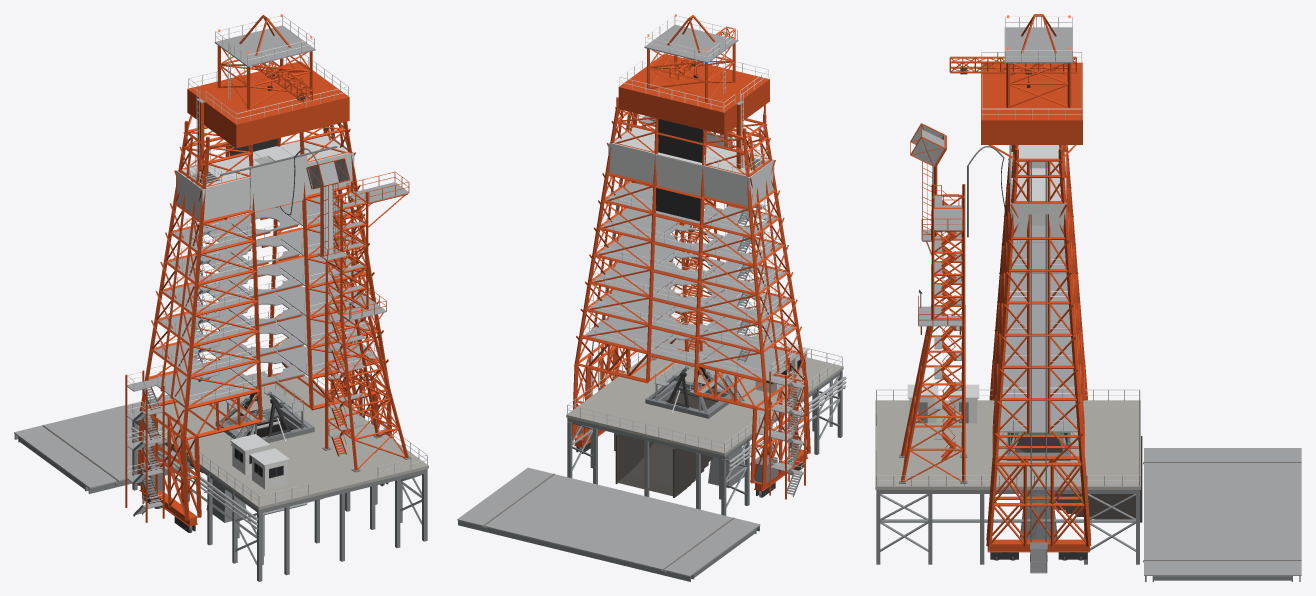
Rendered from pad.lod2.glb.
3 renders of one model, left to right at view 1: azimuth 30°, elevation 25°; view 2: azimuth 150°, elevation 25°; view 3: azimuth 270°, elevation 25°, orthographic. The views are drawn at different scales.
Visible parts, largest first — view 1: ServiceStructure_Tower_Orange, ServiceStructure_Tower_Deck, LaunchStand_Concrete, ServiceStructure_Tower_OrangeHead, EgressTower_Orange, TransferTable_Deck, LaunchStand_GreyFrame, ServiceStructure_Tower_WhiteRails, ServiceStructure_Tower_AluminiumWhiteroom, ServiceStructure_Tower_GreyStair, EgressTower_OrangeStair, EgressTower_DeckPlatforms (+15 smaller); view 2: ServiceStructure_Tower_Orange, ServiceStructure_Tower_Deck, TransferTable_Deck, LaunchStand_Concrete, ServiceStructure_Tower_OrangeHead, ServiceStructure_Tower_WhiteRails, ServiceStructure_Tower_AluminiumWhiteroom, LaunchStand_GreyFrame, ServiceStructure_Tower_BlackScreen, FlameDeflector_ScorchedWalls, FlameDeflector_Scorched, ServiceStructure_Tower_GreyStair (+10 smaller); view 3: ServiceStructure_Tower_Orange, TransferTable_Deck, LaunchStand_Concrete, ServiceStructure_Tower_Deck, ServiceStructure_Tower_OrangeHead, EgressTower_Orange, LaunchStand_GreyFrame, ServiceStructure_Tower_AluminiumWhiteroom, FlameDeflector_ScorchedWalls, ServiceStructure_Tower_WhiteRails, EgressTower_OrangeStair, EgressTower_DeckPlatforms (+13 smaller).
Part boxes in pixels (<box>): ServiceStructure_Tower_Orange: <box>125,15,392,522</box>; ServiceStructure_Tower_Deck: <box>126,25,378,508</box>; LaunchStand_Concrete: <box>137,375,428,509</box>; ServiceStructure_Tower_OrangeHead: <box>187,61,349,148</box>; EgressTower_Orange: <box>317,181,408,470</box>; TransferTable_Deck: <box>14,372,267,488</box>; LaunchStand_GreyFrame: <box>132,420,427,581</box>; ServiceStructure_Tower_WhiteRails: <box>148,15,377,402</box>; ServiceStructure_Tower_AluminiumWhiteroom: <box>176,135,354,220</box>; ServiceStructure_Tower_GreyStair: <box>133,168,215,516</box>; EgressTower_OrangeStair: <box>331,194,354,456</box>; EgressTower_DeckPlatforms: <box>322,182,409,320</box>; ServiceStructure_Tower_Orange: <box>572,15,810,499</box>; ServiceStructure_Tower_Deck: <box>584,24,804,475</box>; TransferTable_Deck: <box>457,467,760,576</box>; LaunchStand_Concrete: <box>566,339,843,456</box>; ServiceStructure_Tower_OrangeHead: <box>618,53,769,134</box>; ServiceStructure_Tower_WhiteRails: <box>583,15,799,375</box>; ServiceStructure_Tower_AluminiumWhiteroom: <box>608,127,774,206</box>; LaunchStand_GreyFrame: <box>567,370,842,515</box>; ServiceStructure_Tower_BlackScreen: <box>656,119,702,221</box>; FlameDeflector_ScorchedWalls: <box>615,391,717,497</box>; FlameDeflector_Scorched: <box>617,392,716,496</box>; ServiceStructure_Tower_GreyStair: <box>737,163,801,496</box>; ServiceStructure_Tower_Orange: <box>949,14,1091,546</box>; TransferTable_Deck: <box>1144,448,1301,575</box>; LaunchStand_Concrete: <box>875,400,1140,489</box>; ServiceStructure_Tower_Deck: <box>1000,27,1077,432</box>; ServiceStructure_Tower_OrangeHead: <box>981,62,1082,144</box>; EgressTower_Orange: <box>900,184,965,482</box>; LaunchStand_GreyFrame: <box>876,490,1139,564</box>; ServiceStructure_Tower_AluminiumWhiteroom: <box>1011,145,1066,236</box>; FlameDeflector_ScorchedWalls: <box>1015,436,1142,522</box>; ServiceStructure_Tower_WhiteRails: <box>981,16,1082,430</box>; EgressTower_OrangeStair: <box>941,190,956,460</box>; EgressTower_DeckPlatforms: <box>918,196,962,326</box>.
Size of the model in its own units: 26.82 by 50.13 by 38.15.
